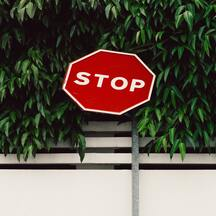Circle: (62, 48, 155, 113)
